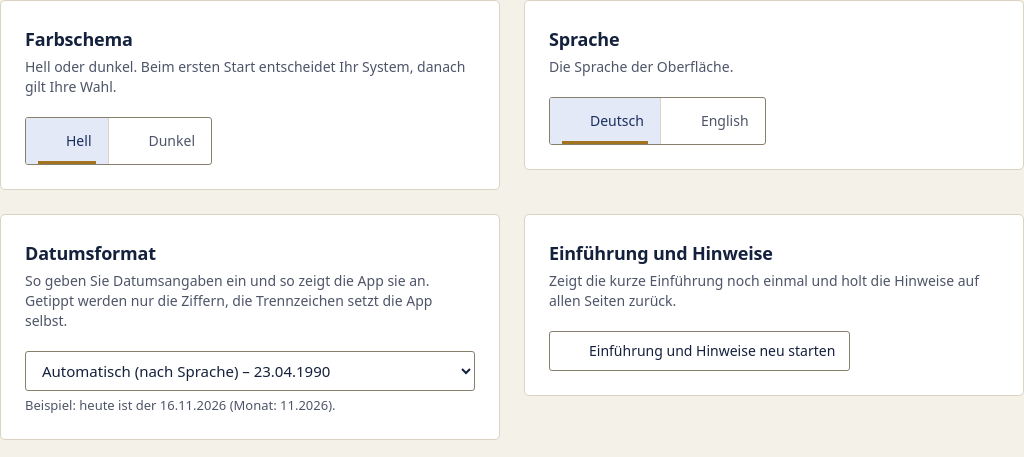
Test: Settings > Appearance: date format › saves the choice like the language: shown at once, sent to the account
Select "JJJJ-MM-TT – 1990-04-23" in the dropdown named "Datumsformat". click: [250, 371]
box: [25,351,475,391]
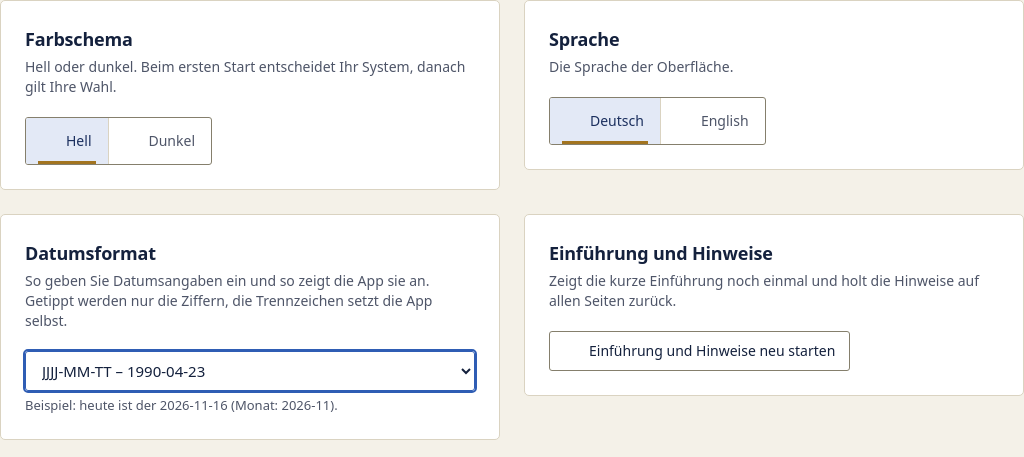
expect the text "Beispiel: heute ist der 2026-11-16 (Monat: 2026-11)." is shown: met, box [25,396,338,414]
